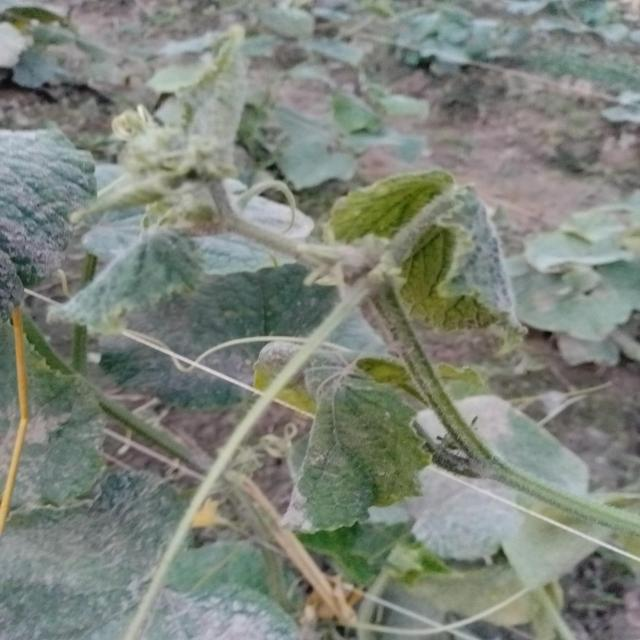cucumber_bacterial: (321, 160, 536, 369), (82, 22, 256, 220), (277, 352, 427, 546), (46, 220, 214, 348), (0, 131, 93, 309)
